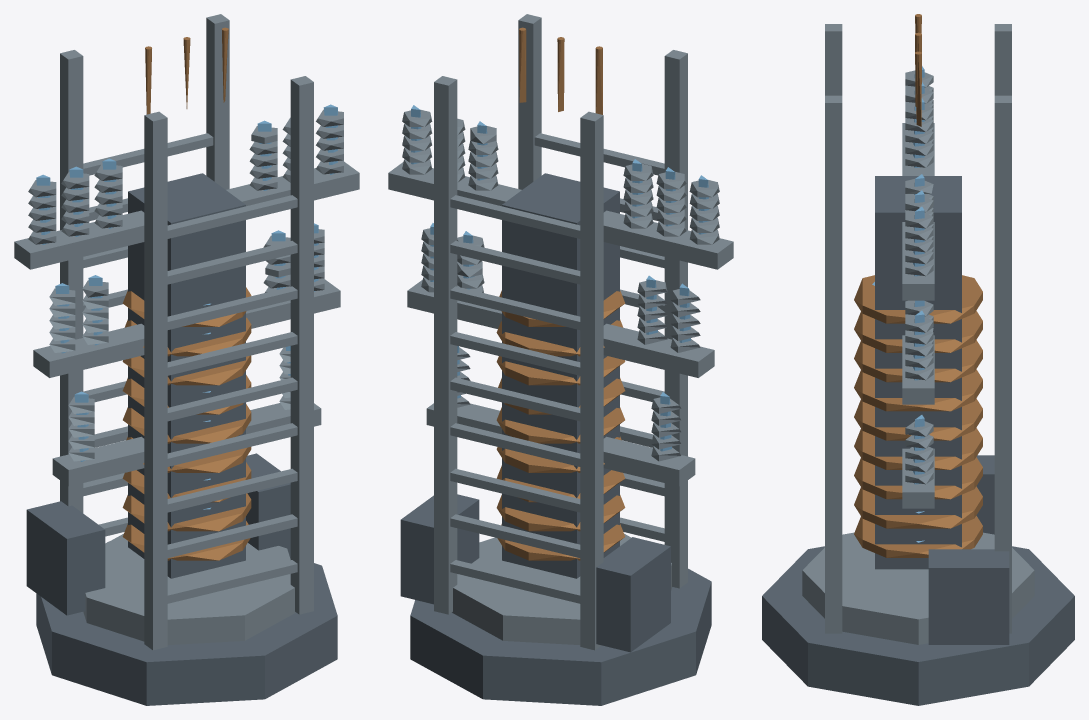
The model's file is relay_t3_d0.glb.
3 renders of one model, left to right at view 1: azimuth 30°, elevation 25°; view 2: azimuth 150°, elevation 25°; view 3: azimuth 270°, elevation 25°, orthographic.
Visible parts, largest first — view 1: ROOT_ARMOR_GEOMETRY; view 2: ROOT_ARMOR_GEOMETRY; view 3: ROOT_ARMOR_GEOMETRY.
Boxes of the visible parts, bbox=[...] form: ROOT_ARMOR_GEOMETRY: bbox=[14, 14, 359, 705]; ROOT_ARMOR_GEOMETRY: bbox=[388, 14, 733, 705]; ROOT_ARMOR_GEOMETRY: bbox=[762, 14, 1074, 705].
Size of the model in its own units: 1.89 by 3.31 by 1.55.
